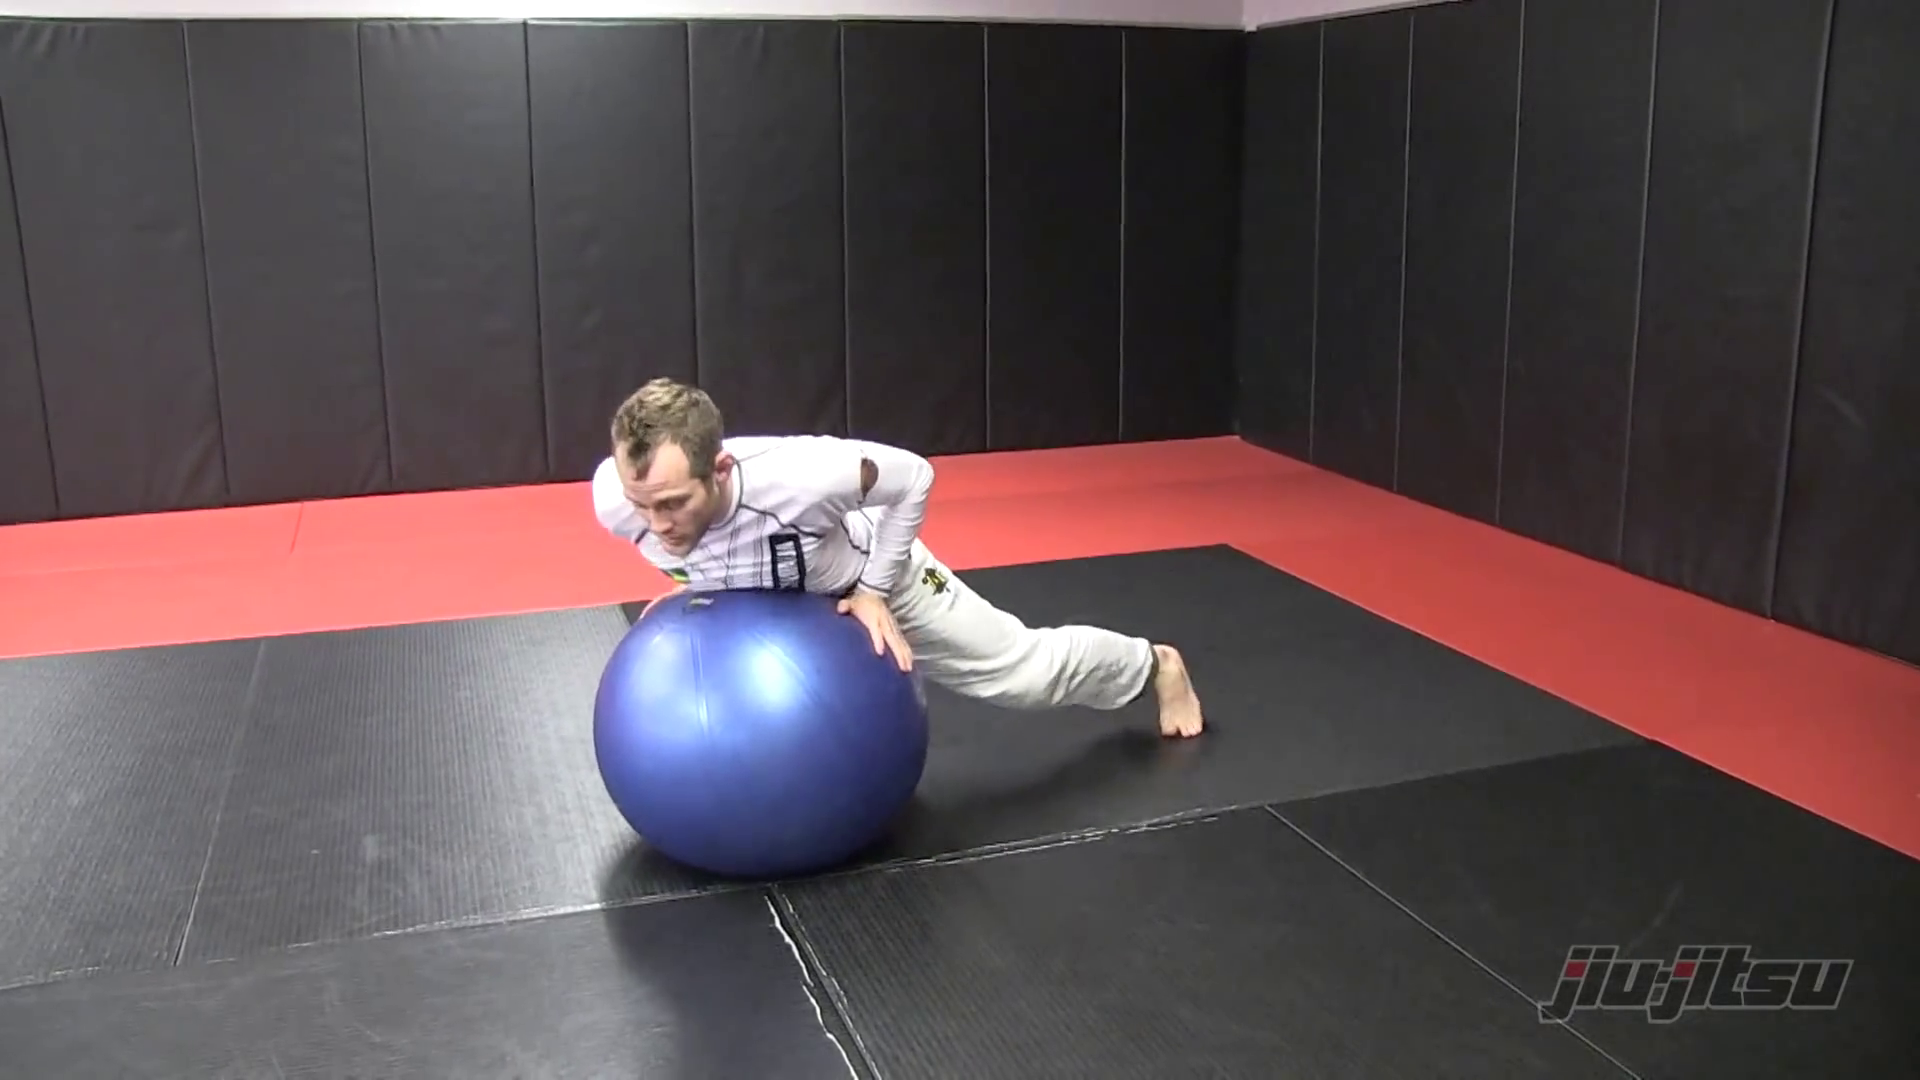yogaball: (574, 582, 963, 895)
